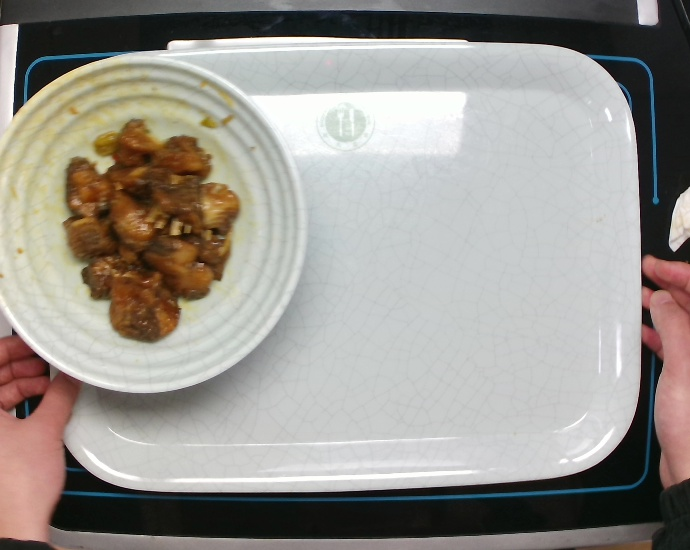JYsf-Da_Tang_Wan: (1, 54, 313, 397)
